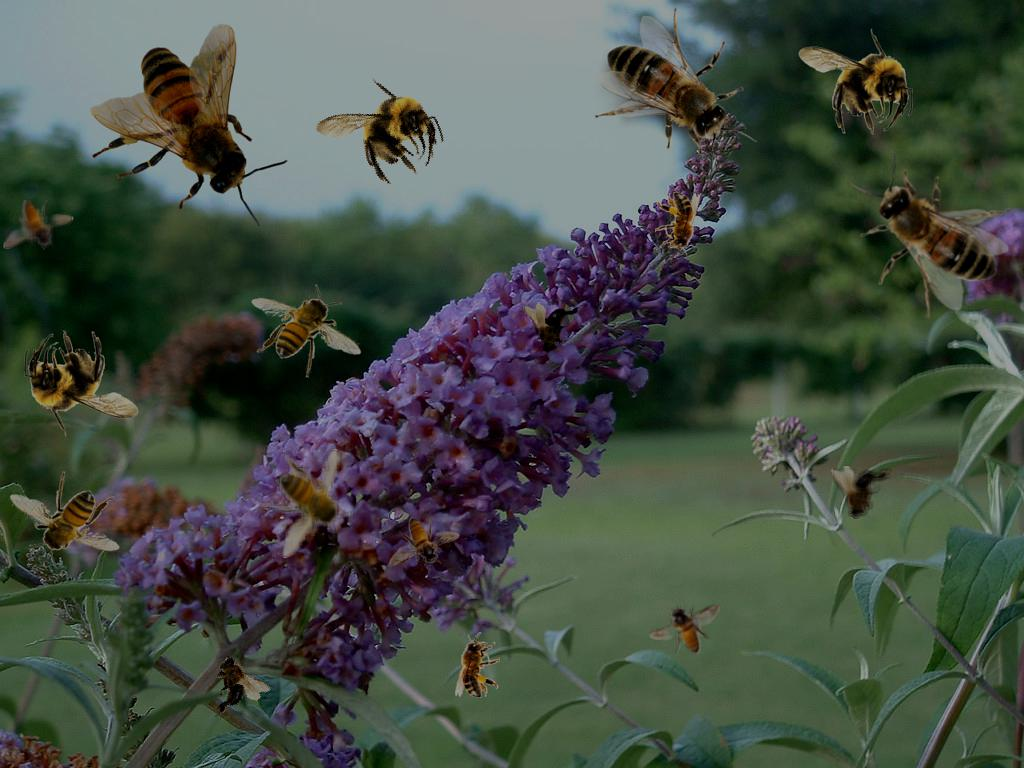Bee: (90, 23, 289, 227), (846, 150, 1011, 320), (595, 7, 757, 174), (305, 60, 454, 205), (798, 28, 913, 135), (24, 330, 139, 437), (259, 448, 353, 559), (9, 471, 120, 565), (251, 284, 362, 378), (192, 645, 273, 721), (3, 200, 74, 250), (389, 517, 460, 567), (649, 604, 720, 654), (831, 466, 893, 519), (523, 302, 585, 355), (655, 192, 700, 258), (455, 632, 500, 698)
